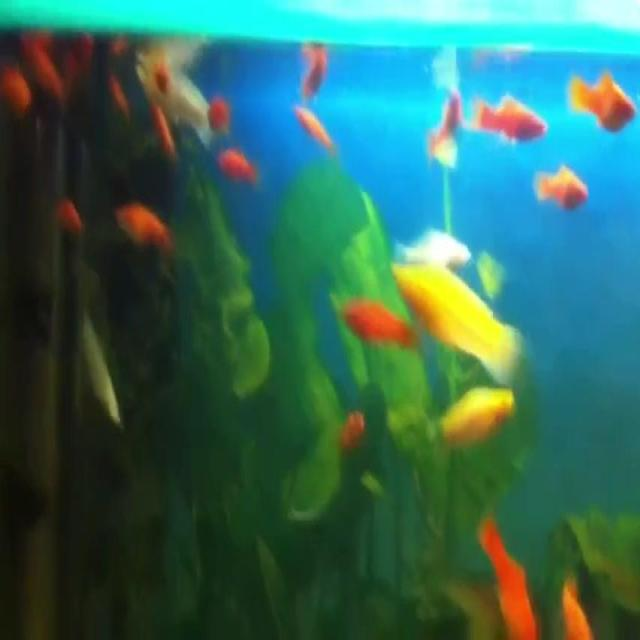PlatyFish: (386, 238, 534, 398), (565, 57, 640, 151), (471, 75, 553, 157)
